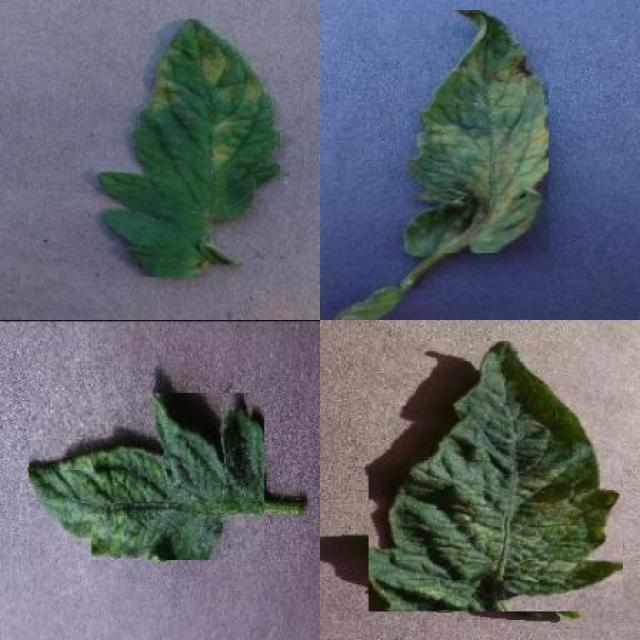Leaf Mold: (95, 19, 281, 277), (402, 10, 548, 253)
Mosaic Virus: (29, 393, 264, 560)
Spider Mites: (369, 338, 622, 612)
